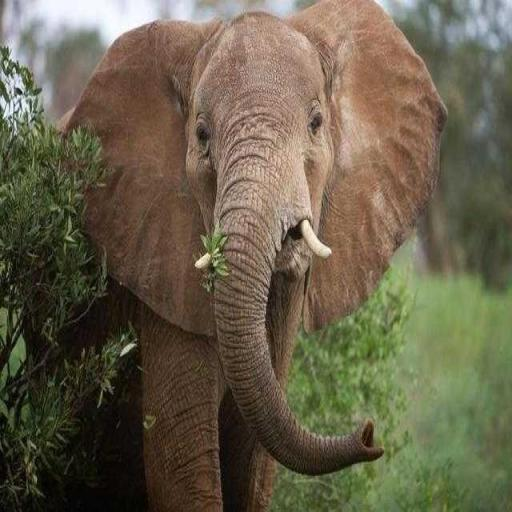Elephant: (48, 0, 448, 510)
